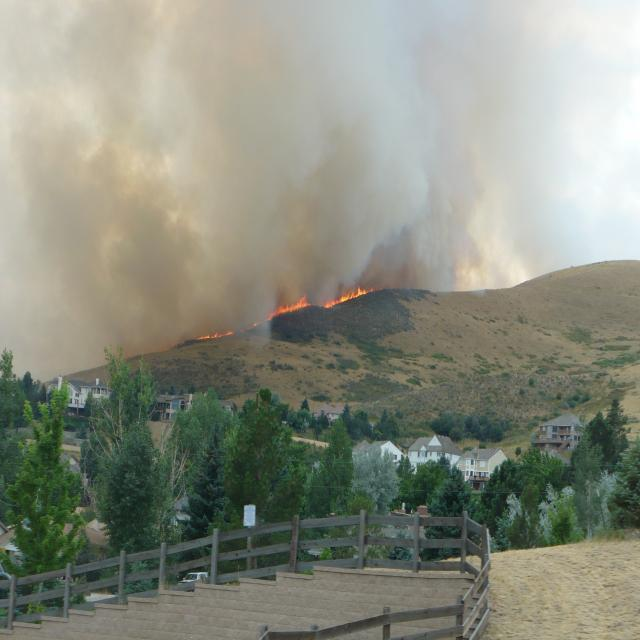Fire: (321, 284, 377, 317), (266, 294, 312, 326), (187, 325, 236, 348)
Smoke: (0, 0, 604, 362)
